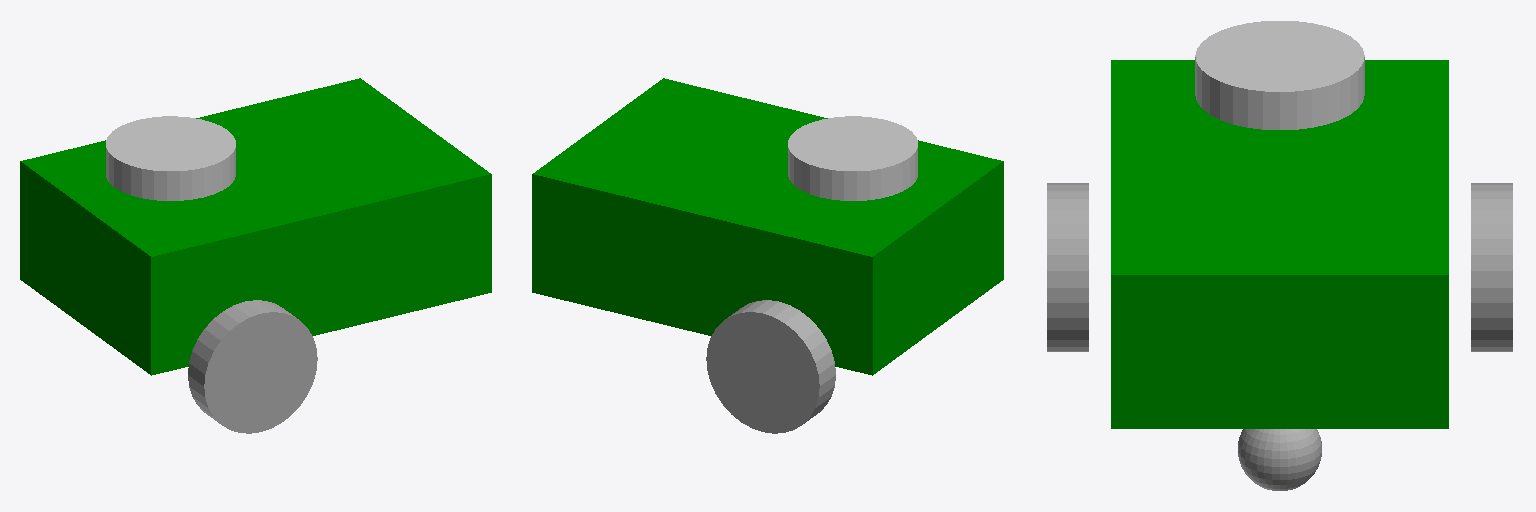
URDF robot description (my_robot):
<?xml version="1.0"?>
<robot name="my_robot">

  <!-- ================= MATERIALS ================= -->
  <material name="green">
    <color rgba="0 0.6 0 1"/>
  </material>

  <material name="white">
    <color rgba="0.8 0.8 0.8 1"/>
  </material>

  <material name="gray">
    <color rgba="0.7 0.7 0.7 1"/>
  </material>

  <!-- ================= VIRTUAL REFERENCE FRAME ================= -->
  <link name="base_footprint"/>

  <!-- ================= BASE LINK ================= -->
  <link name="base_link">
    <visual>
      <geometry>
        <box size="0.6 0.4 0.2"/>
      </geometry>
      <!-- box center is 0.1 above base_footprint -->
      <origin xyz="0 0 0.1" rpy="0 0 0"/>
      <material name="green"/>
    </visual>
  </link>

  <joint name="base_joint" type="fixed">
    <parent link="base_footprint"/>
    <child link="base_link"/>
    <origin xyz="0 0 0.1" rpy="0 0 0"/>
  </joint>

  <!-- ================= LIDAR (FRONT TOP) ================= -->
  <link name="lidar">
    <visual>
      <geometry>
        <cylinder radius="0.1" length="0.05"/>
      </geometry>
      <origin xyz="0 0 0" rpy="0 0 0"/>
      <material name="white"/>
    </visual>
  </link>

  
  <joint name="base_lidar_joint" type="fixed">
    <parent link="base_link"/>
    <child link="lidar"/>
    <!-- on top of box, same face as wheels -->
    <origin xyz="-0.15 0 0.25" rpy="0 0 0"/>
  </joint>

  <!-- ================= LEFT DRIVE WHEEL (REAR, +Y) ================= -->
  <link name="left_wheel">
    <visual>
      <geometry>
        <cylinder radius="0.1" length="0.05"/>
      </geometry>
      <origin xyz="0 0 0" rpy="0 0 0"/>
      <material name="gray"/>
    </visual>
  </link>

  <joint name="base_left_wheel_joint" type="continuous">
    <parent link="base_link"/>
    <child link="left_wheel"/>
    <!-- rear half, touching left side -->
    <origin xyz="-0.15 0.25 0" rpy="-1.57 0 0"/>
    <axis xyz="0 0 1"/>
  </joint>

  <!-- ================= RIGHT DRIVE WHEEL (REAR, -Y) ================= -->
  <link name="right_wheel">
    <visual>
      <geometry>
        <cylinder radius="0.1" length="0.05"/>
      </geometry>
      <origin xyz="0 0 0" rpy="0 0 0"/>
      <material name="gray"/>
    </visual>
  </link>

  <joint name="base_right_wheel_joint" type="continuous">
    <parent link="base_link"/>
    <child link="right_wheel"/>
    <!-- mirror Y only -->
    <origin xyz="-0.15 -0.25 0" rpy="-1.57 0 0"/>
    <axis xyz="0 0 1"/>
  </joint>

  <!-- ================= CASTER WHEEL (BACK, SUPPORTING) ================= -->
  <link name="caster_wheel">
    <visual>
      <geometry>
        <sphere radius="0.05"/>
      </geometry>
      <origin xyz="0 0 0" rpy="0 0 0"/>
      <material name="gray"/>
    </visual>
  </link>

  <joint name="base_caster_wheel_joint" type="fixed">
    <parent link="base_link"/>
    <child link="caster_wheel"/>
    <!-- back (+X in your view), clearly below box -->
    <origin xyz="0.25 0 -0.05" rpy="0 0 0"/>
  </joint>

</robot>

--- What the picture shows (computed from the rendered views, not written in the file) ---
The picture shows the robot from 3 angles, left to right: view 1: azimuth 30°, elevation 25°; view 2: azimuth 150°, elevation 25°; view 3: azimuth 270°, elevation 25°; orthographic projection.
Model my_robot with 6 links and 5 joints (2 continuous, 3 fixed), rooted at base_footprint, posed every joint at zero.
Links seen in each view (by area): view 1: base_link, right_wheel, lidar; view 2: base_link, left_wheel, lidar; view 3: base_link, lidar, left_wheel, right_wheel, caster_wheel.
Link boxes in pixels (x1,y1,x2,y2): base_link: (20,78,491,375); right_wheel: (188,300,317,433); lidar: (106,116,235,200); base_link: (532,78,1003,375); left_wheel: (706,300,835,433); lidar: (788,116,917,200); base_link: (1111,60,1448,428); lidar: (1195,21,1364,129); left_wheel: (1471,183,1512,351); right_wheel: (1047,183,1088,351); caster_wheel: (1238,429,1321,490).
Size in the robot's own frame: 0.6 by 0.5502 by 0.375 metres.
Geometry: primitives only (box / cylinder / sphere), no mesh files.
